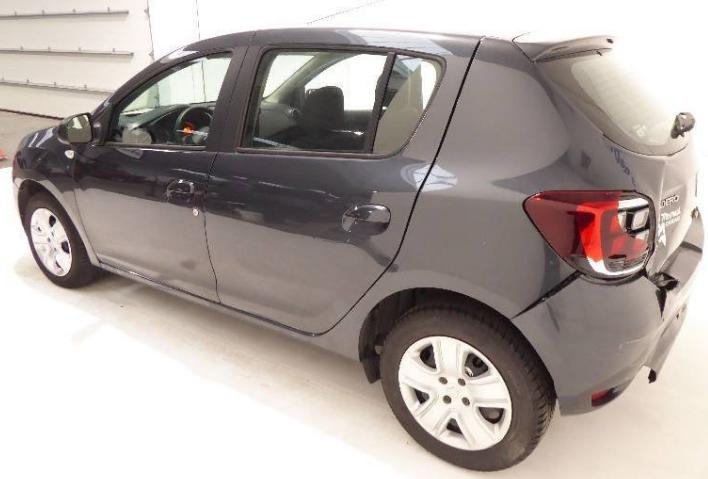Back-bumper: (509, 210, 705, 418)
Back-door: (205, 27, 482, 335)
Back-wheel: (379, 302, 558, 472)
Back-window: (240, 49, 442, 153)
Back-windshield: (570, 49, 678, 145)
Fender: (12, 126, 103, 268)
Front-bumper: (12, 181, 20, 218)
Front-door: (74, 31, 254, 303)
Front-wheel: (25, 191, 102, 288)
Front-window: (104, 50, 232, 146)
Mirror: (59, 114, 100, 145)
Quarter-panel: (311, 167, 637, 362)
Rocker-panel: (91, 261, 318, 343)
Roof: (253, 6, 607, 41)
Tail-light: (523, 190, 656, 280)
Trunk: (512, 31, 702, 279)
